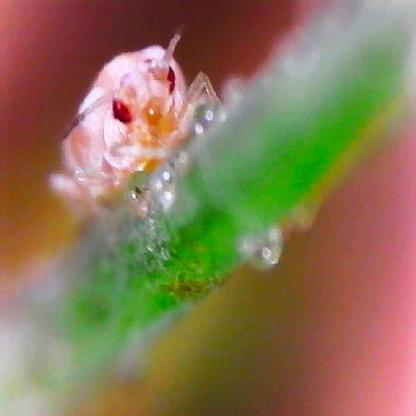aphid: (37, 33, 229, 193)
